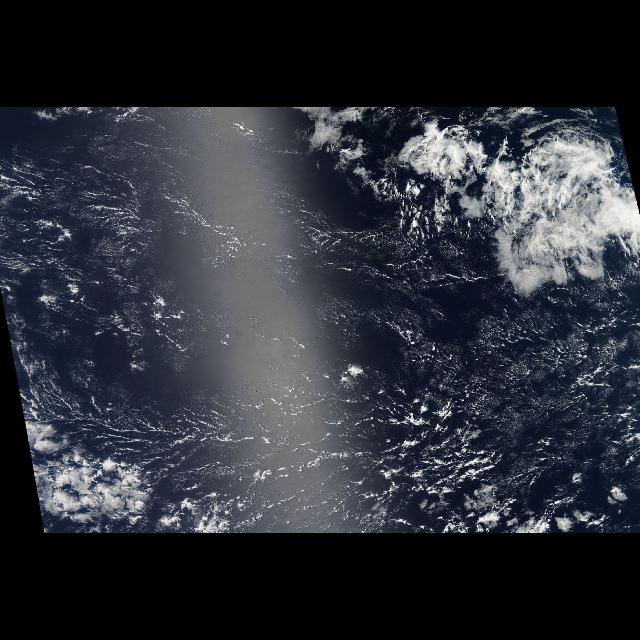Gravel: (6, 125, 422, 359), (94, 390, 436, 516)
Sugar: (1, 108, 640, 522)
